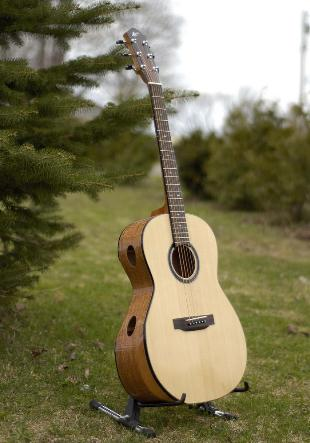guitar: (113, 27, 250, 408)
